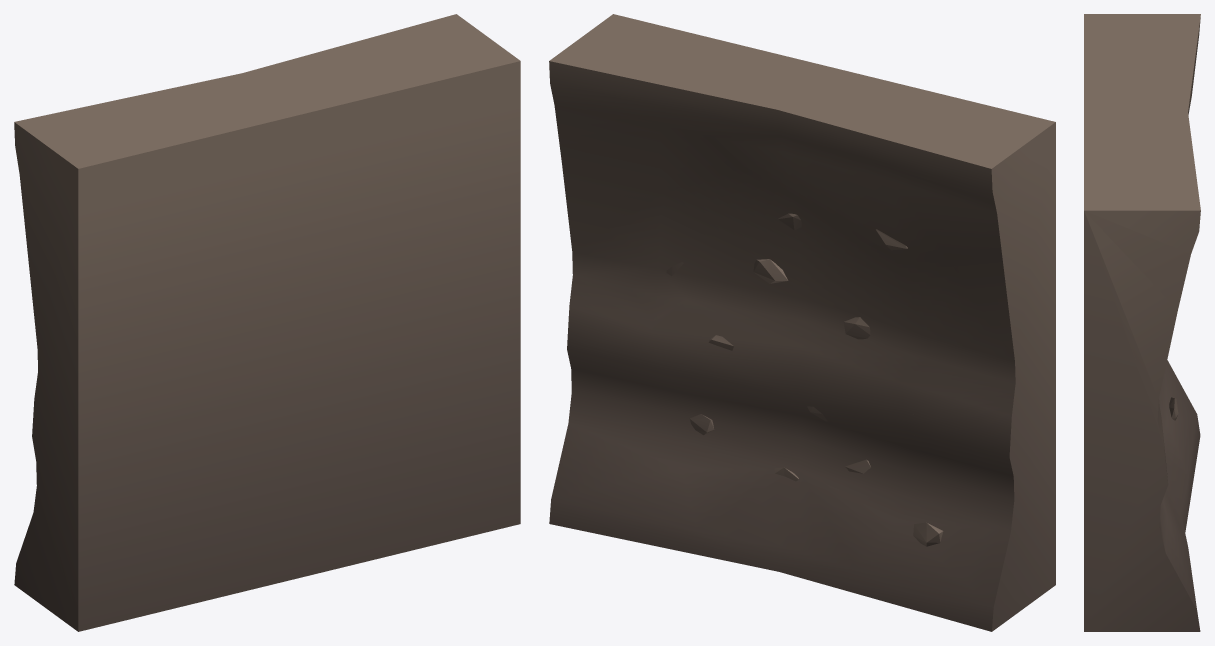
The model's file is cave_wall.glb.
3 renders of one model, left to right at view 1: azimuth 30°, elevation 25°; view 2: azimuth 150°, elevation 25°; view 3: azimuth 270°, elevation 25°, orthographic. The views are drawn at different scales.
Visible parts, largest first — view 1: wall_inner_cave; view 2: wall_inner_cave; view 3: wall_inner_cave.
Part boxes in pixels (x1,y1,x2,y2): wall_inner_cave: (14, 14, 520, 631); wall_inner_cave: (549, 14, 1055, 631); wall_inner_cave: (1084, 14, 1200, 631).
Size of the model in its own units: 4 by 4 by 1.01.
Materials: 1 (1 with a texture image).
